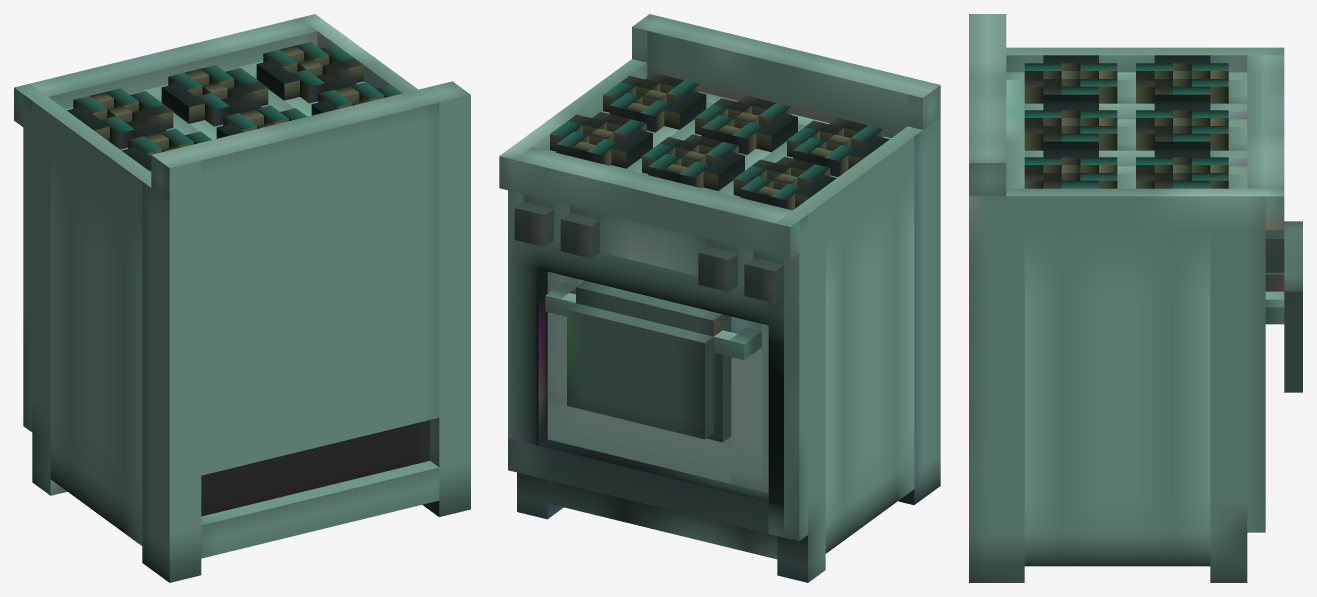
Rendered from Oven_00.fbx.
3 views of the same model, side by side, from view 1: azimuth 30°, elevation 25°; view 2: azimuth 150°, elevation 25°; view 3: azimuth 270°, elevation 25° (orthographic). The views are drawn at different scales.
Visible parts, largest first — view 1: Oven_00; view 2: Oven_00; view 3: Oven_00.
Part boxes in pixels (x1,y1,x2,y2): Oven_00: (14, 14, 470, 582); Oven_00: (499, 14, 940, 582); Oven_00: (969, 14, 1302, 582).
Bounding box in the file's own units: 95 × 125 × 90.
